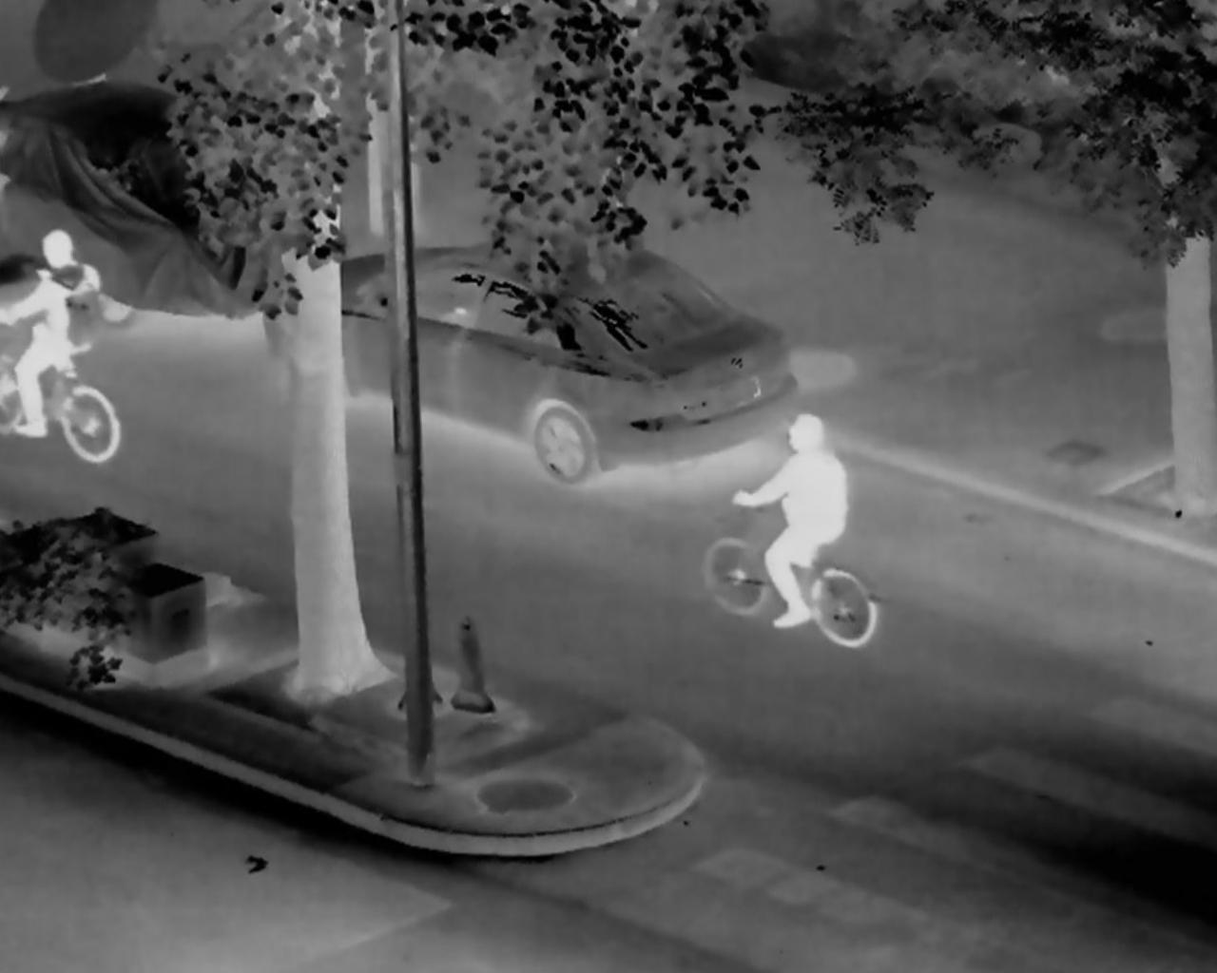person: (733, 413, 852, 629)
